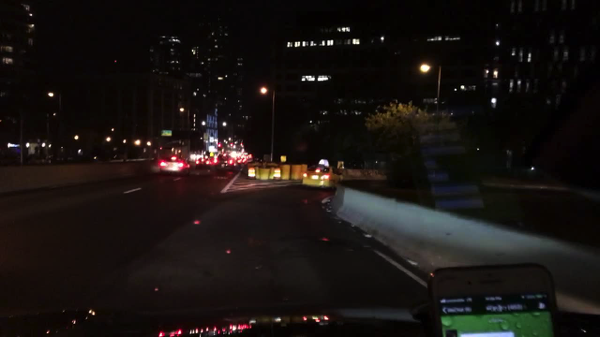car: (301, 160, 341, 191), (158, 156, 191, 177), (212, 153, 234, 173), (195, 156, 210, 168), (237, 158, 249, 165)
traffic light: (230, 141, 233, 148), (219, 143, 222, 148), (158, 147, 163, 150), (240, 141, 242, 147)
traffic sign: (162, 131, 171, 136), (338, 162, 344, 169), (279, 157, 285, 162)
